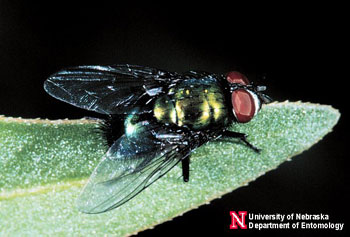green bottles fly: (31, 41, 275, 198)
